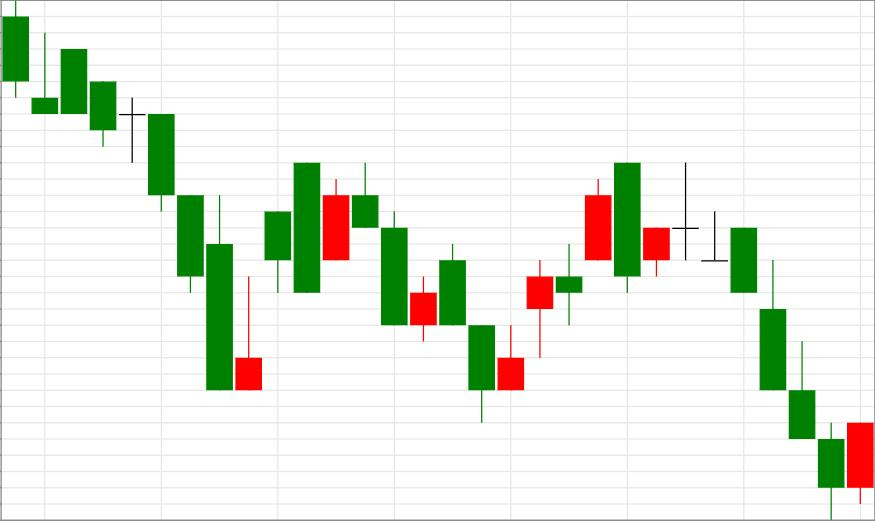bearish_engulfing_fall: (498, 162, 641, 391)
inverse_hammer_rise: (61, 48, 262, 391)
